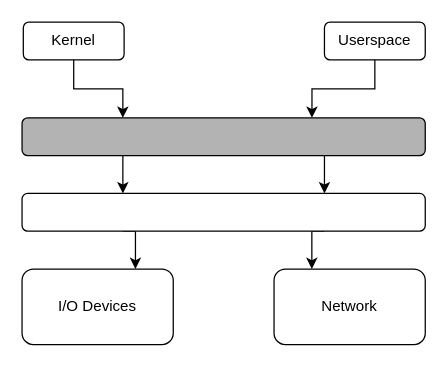
Some shapes in this 447 by 367 pixel diagram are drawn without their labels. The centre of each missing label's shape, as x and y in pixels:
"File System Drivers" belongs at point 223,211.
"VFS Layer" belongs at point 223,136.
